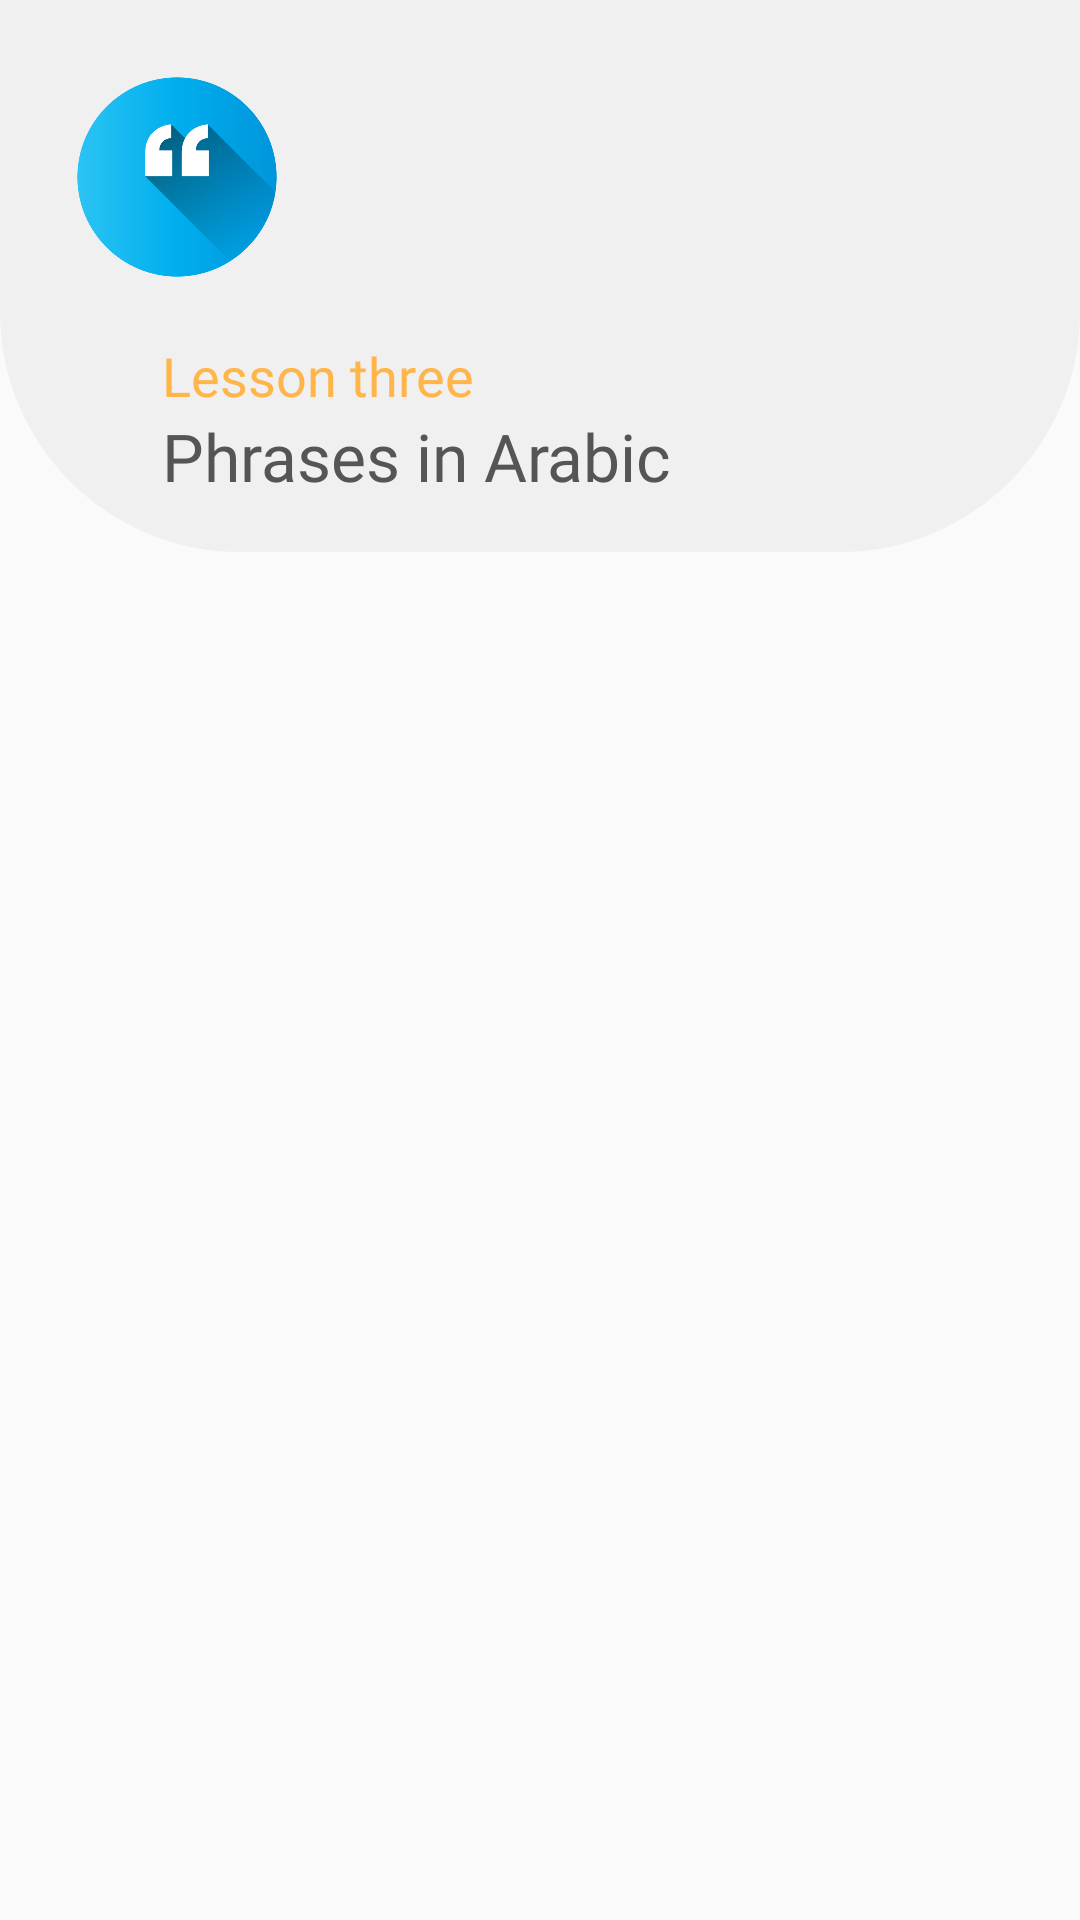

Point at icon controls on the screen. Image size 1080 × 1920, points as point (x, y).
left quotes: point (177, 177)
